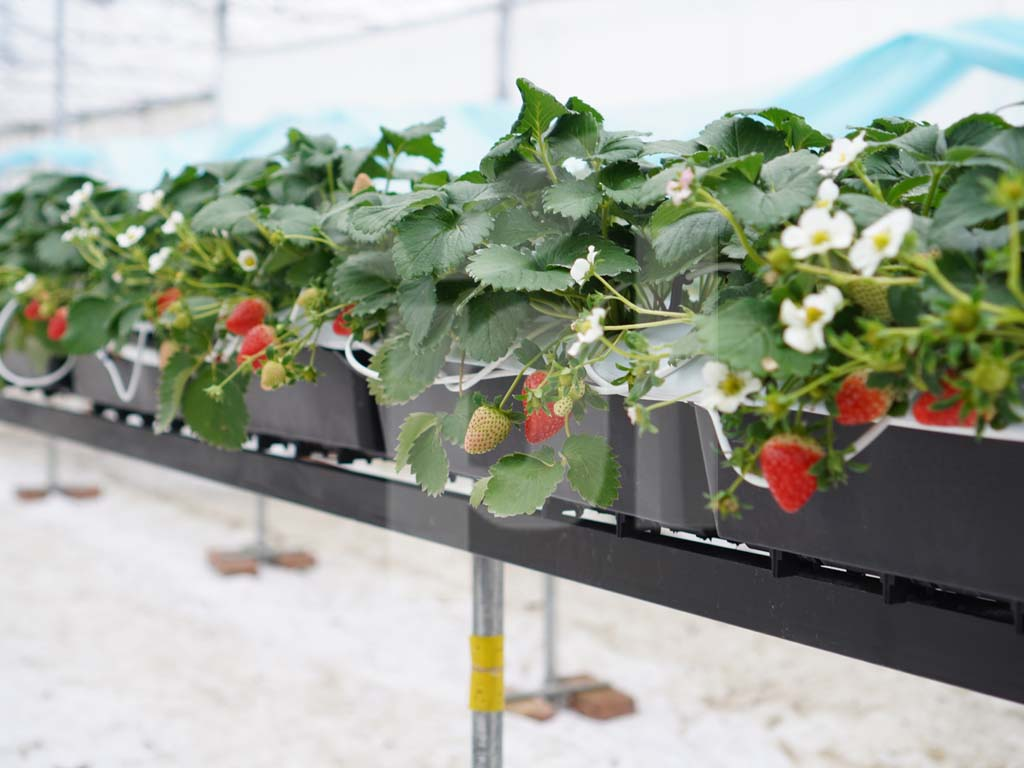green_strawberry: (462, 401, 511, 456), (555, 378, 585, 414), (259, 360, 287, 392)
red_strawberry: (762, 437, 824, 515), (914, 375, 980, 432), (836, 370, 896, 424), (526, 373, 558, 437), (240, 324, 276, 363), (229, 297, 261, 331)
